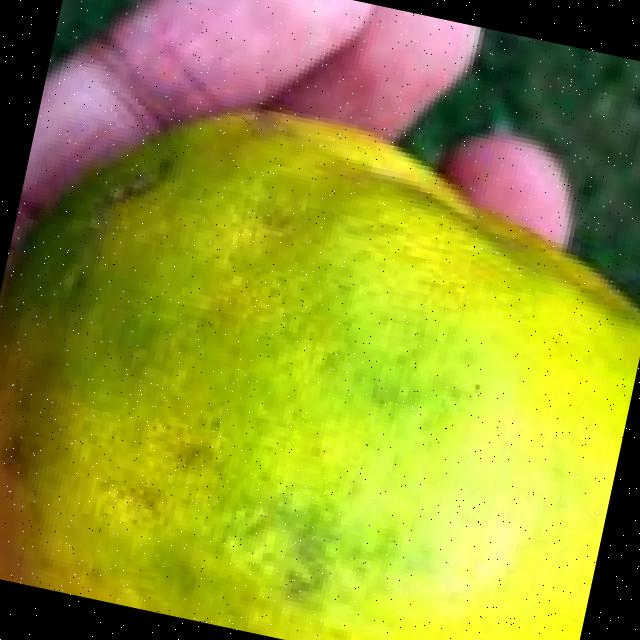Bad_Orange-0-1 day: (0, 103, 640, 640)
